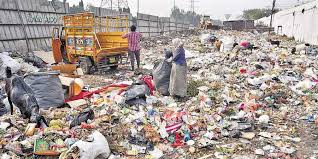garbage: (46, 97, 318, 157), (189, 45, 318, 156), (41, 72, 146, 159)
